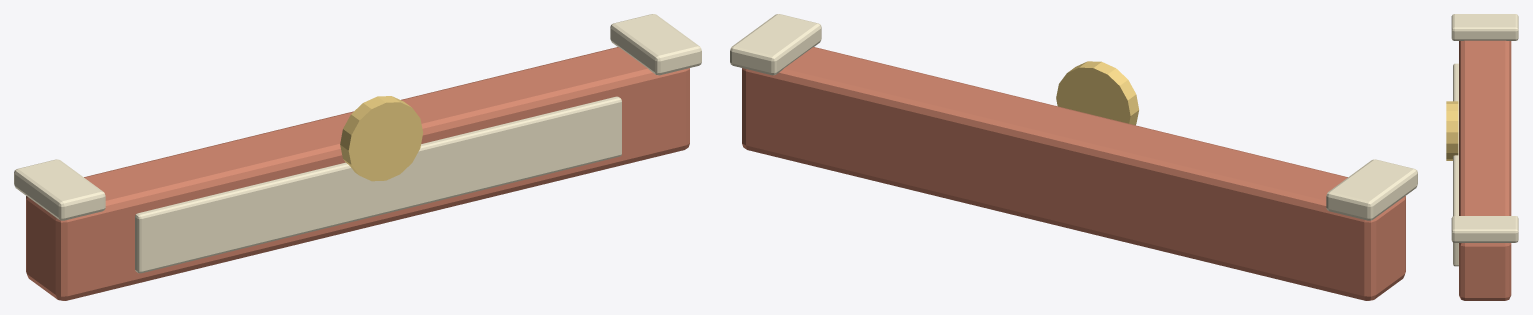
The model's file is GateCrown.fbx.
The picture shows the model from 3 angles, left to right: view 1: azimuth 30°, elevation 25°; view 2: azimuth 150°, elevation 25°; view 3: azimuth 270°, elevation 25°; orthographic projection. The views are drawn at different scales.
Parts seen in each view (by area): view 1: Gate terracotta band, Gate cream lettering panel, Campus medallion, Gateway cornice, Gateway cornice.001; view 2: Gate terracotta band, Campus medallion, Gateway cornice, Gateway cornice.001; view 3: Gate terracotta band, Gateway cornice, Gateway cornice.001, Gate cream lettering panel, Campus medallion.
Boxes of the visible parts, x1,y1,x2,y2 form: Gate terracotta band: [26, 47, 689, 300]; Gate cream lettering panel: [135, 96, 621, 273]; Campus medallion: [340, 96, 423, 181]; Gateway cornice: [14, 159, 105, 220]; Gateway cornice.001: [610, 14, 701, 75]; Gate terracotta band: [742, 47, 1405, 300]; Campus medallion: [1056, 61, 1138, 125]; Gateway cornice: [1326, 159, 1417, 220]; Gateway cornice.001: [730, 14, 821, 75]; Gate terracotta band: [1459, 40, 1511, 300]; Gateway cornice: [1451, 14, 1518, 40]; Gateway cornice.001: [1451, 216, 1518, 242]; Gate cream lettering panel: [1453, 63, 1458, 266]; Campus medallion: [1446, 101, 1458, 160].
Size of the model in its own units: 345 by 68 by 48.5.
